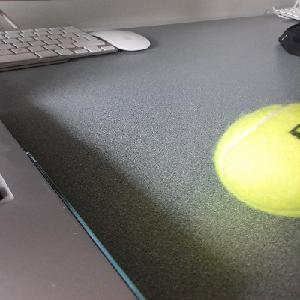Ball: (214, 103, 299, 218)
